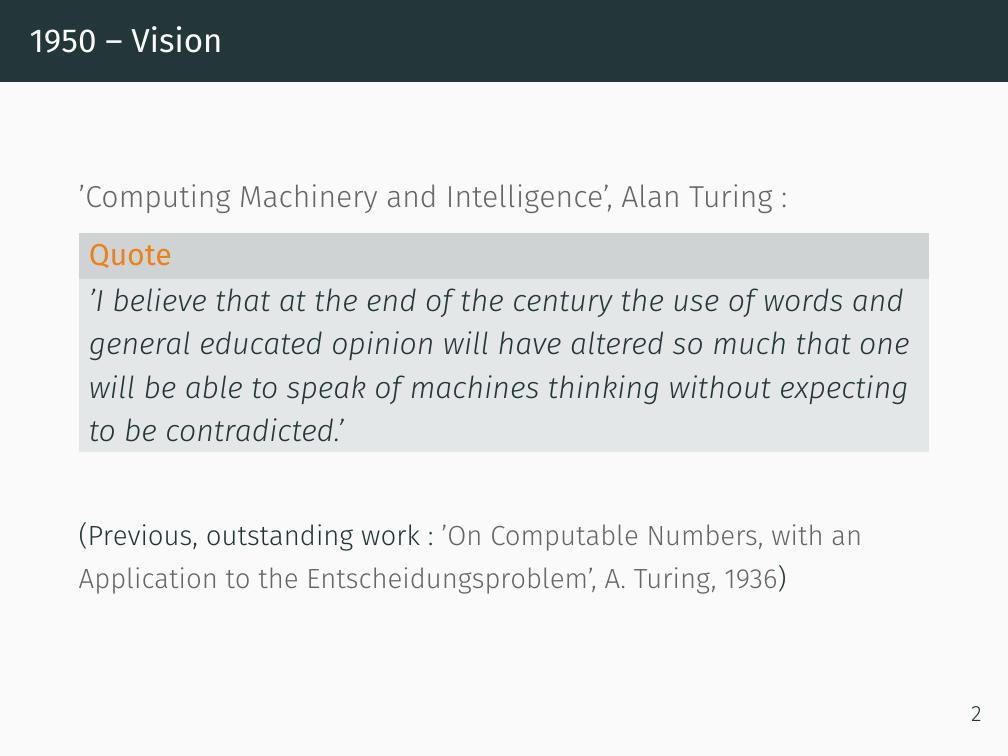Title: (24, 19, 228, 69)
